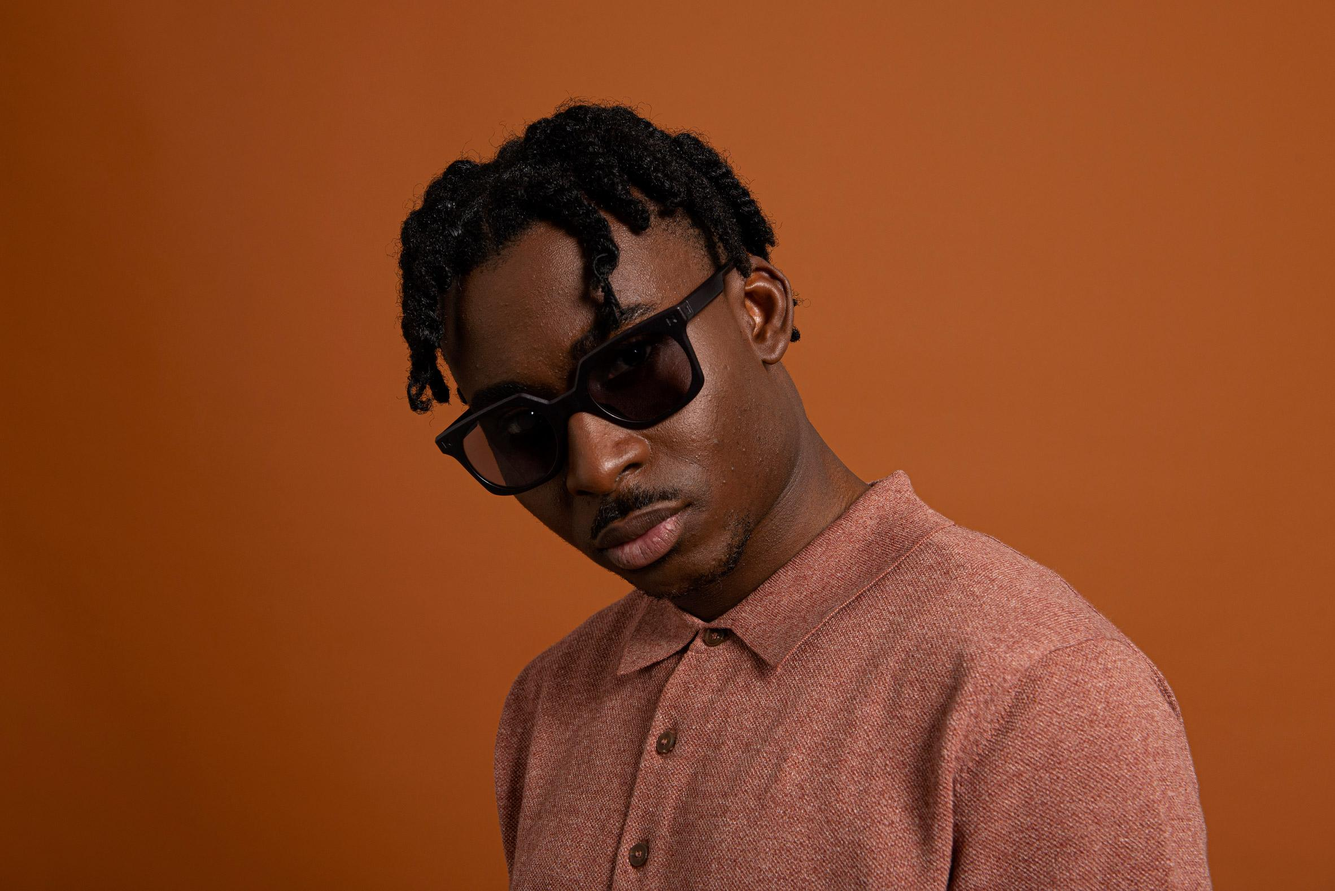sunglasses: (415, 296, 717, 511)
